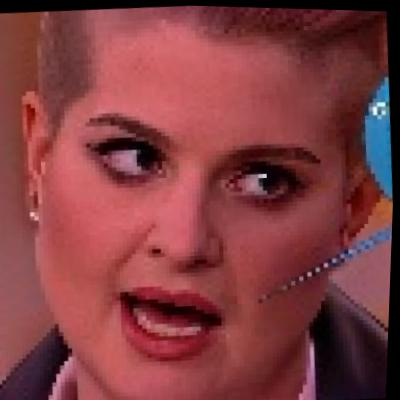angry: (35, 11, 355, 393)
